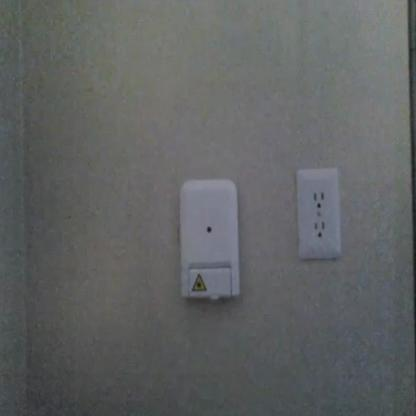OUTLET: (296, 168, 340, 258)
